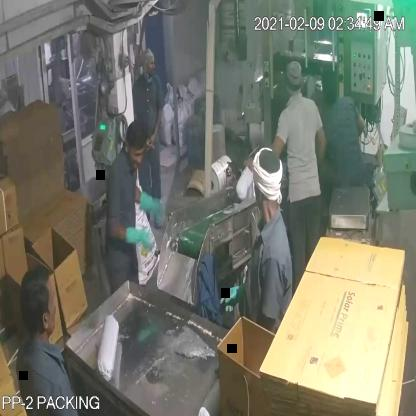glove: (104, 207, 160, 264), (128, 181, 168, 226)
